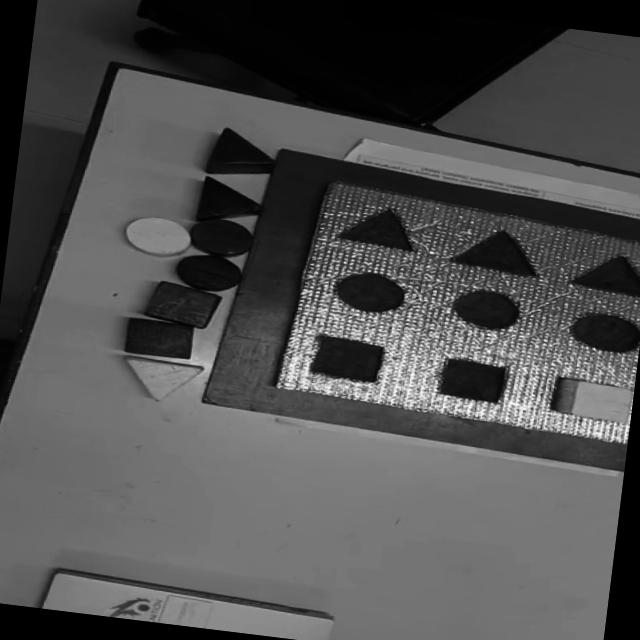bcircle: (173, 250, 244, 294)
bcube: (124, 316, 196, 360)
btriangle: (195, 175, 265, 227)
mtcircle: (332, 268, 408, 316), (568, 309, 640, 355), (451, 286, 522, 331)
mtcube: (310, 333, 388, 384), (436, 355, 508, 405)
mttriangle: (449, 223, 544, 280), (337, 202, 422, 253), (572, 249, 640, 299)
rcircle: (186, 214, 255, 260)
rcube: (142, 278, 224, 332)
rtriangle: (204, 125, 278, 181)
wb: (267, 173, 640, 449)
ycircle: (120, 211, 196, 260)
ycube: (548, 374, 634, 424)
ytriangle: (116, 354, 205, 406)
